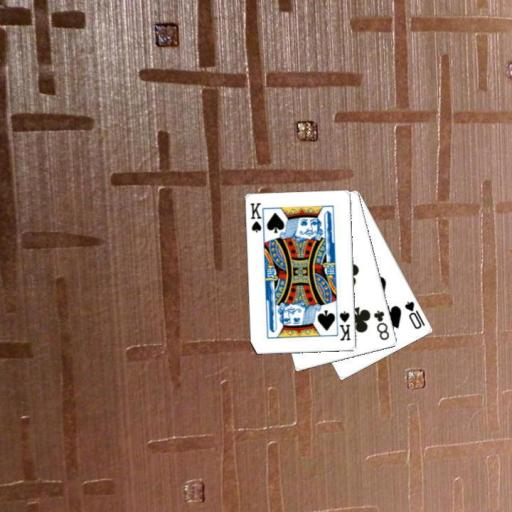10S: (402, 298, 427, 331)
8C: (371, 307, 391, 342)
KS: (247, 200, 266, 237), (337, 308, 352, 343)
